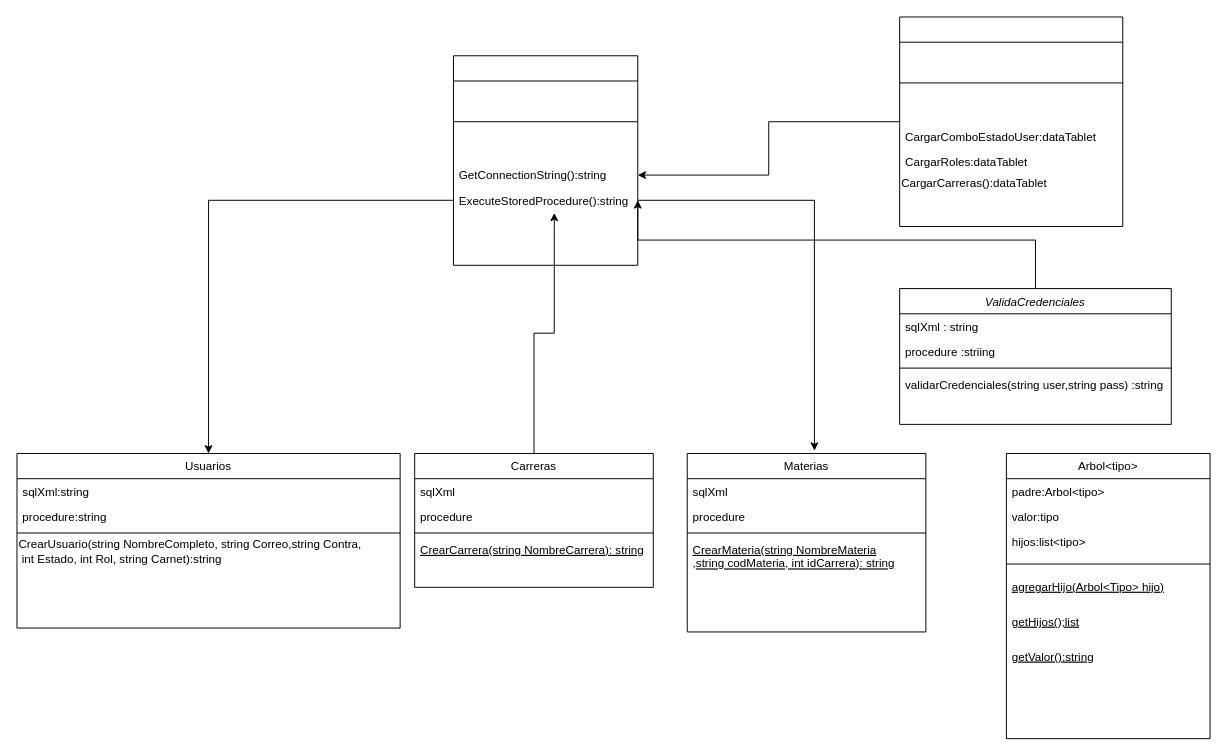
Some shapes in this 1227 by 756 pixel diagram are drawn without their labels. Here are the shapes that lost their labels. From the top down, the box of each, then its label:
(899, 16, 1123, 226): CargarCombox
(453, 55, 638, 265): ConnectionDB
